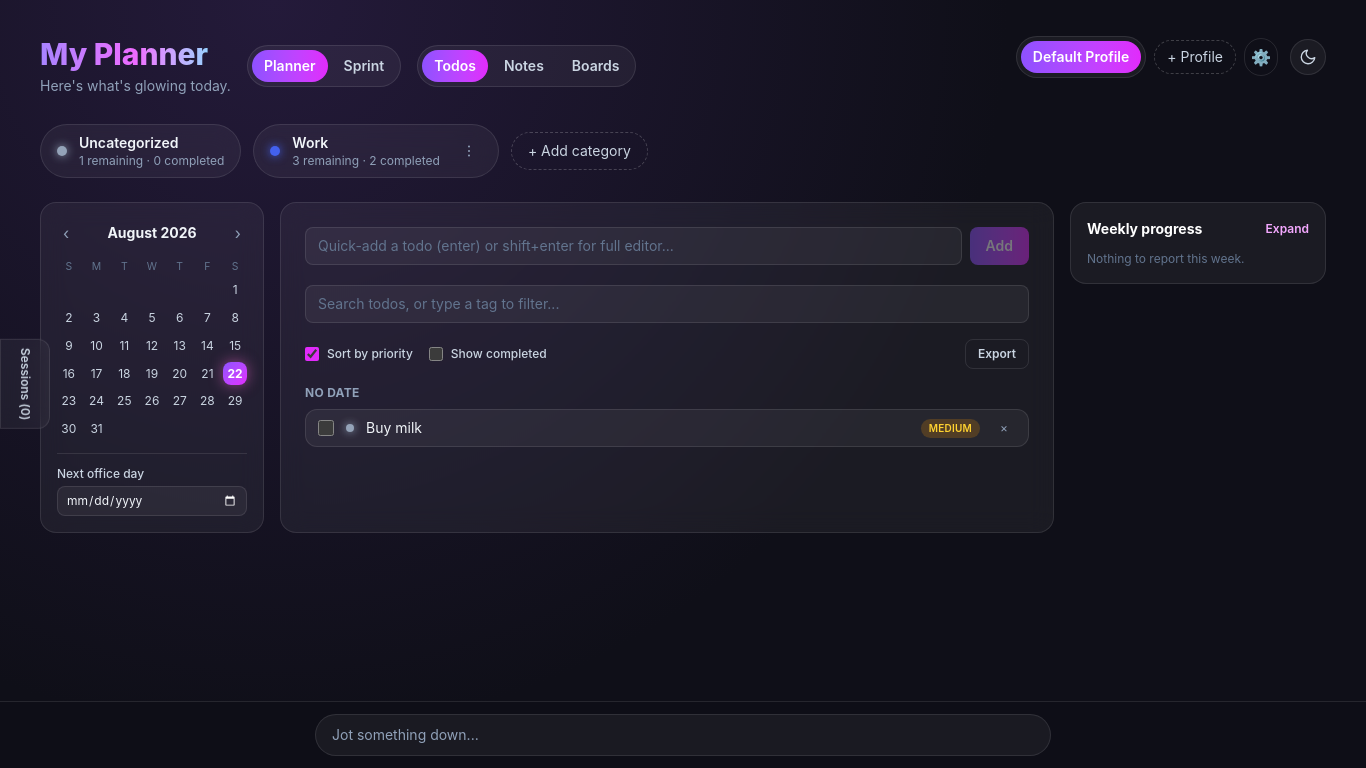
Test case: App › Todos › toggles a todo complete and it drops out of the open agenda
Expected: the text "Buy milk" is shown, [366,419,422,436]
Click the checkbox named "Complete Buy milk" at (326,428), box [318,420,334,436]
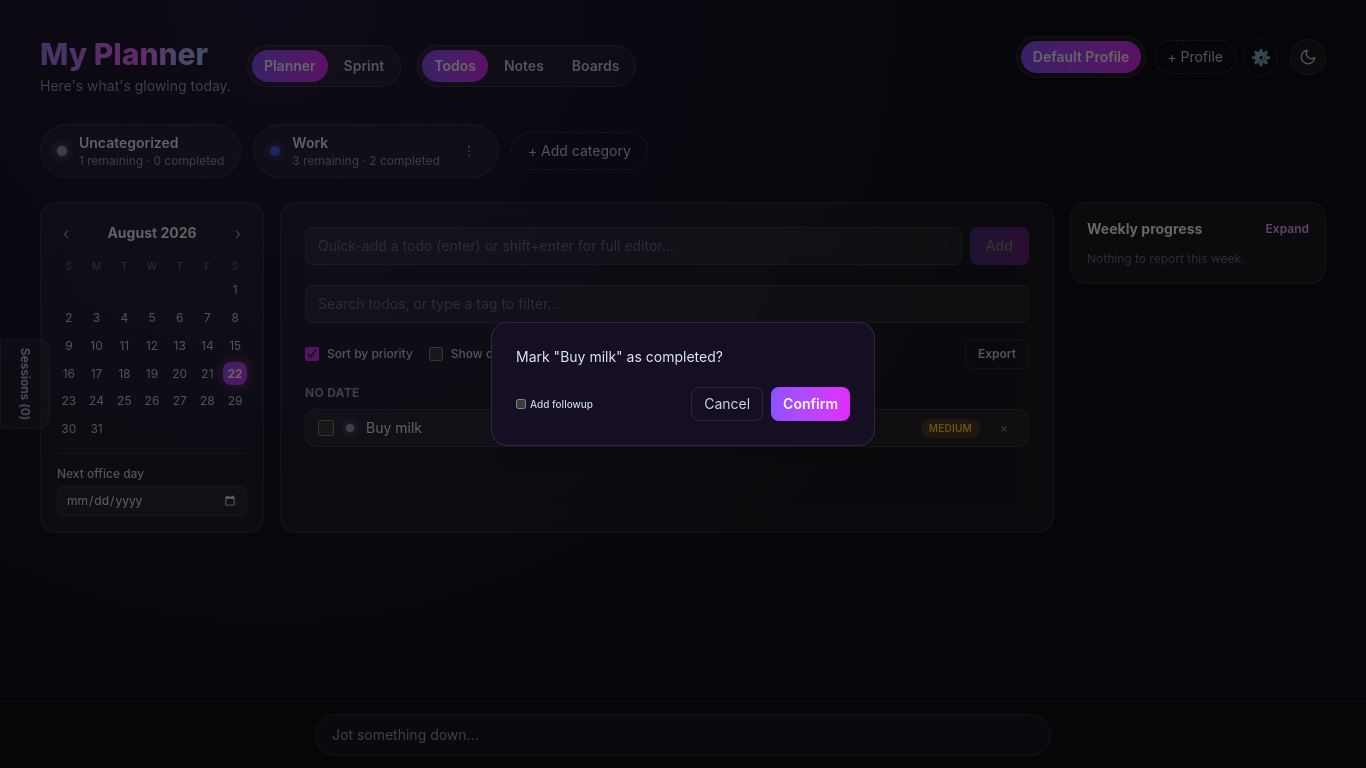
Click the button "Confirm" at (811,404), box [771,387,850,421]
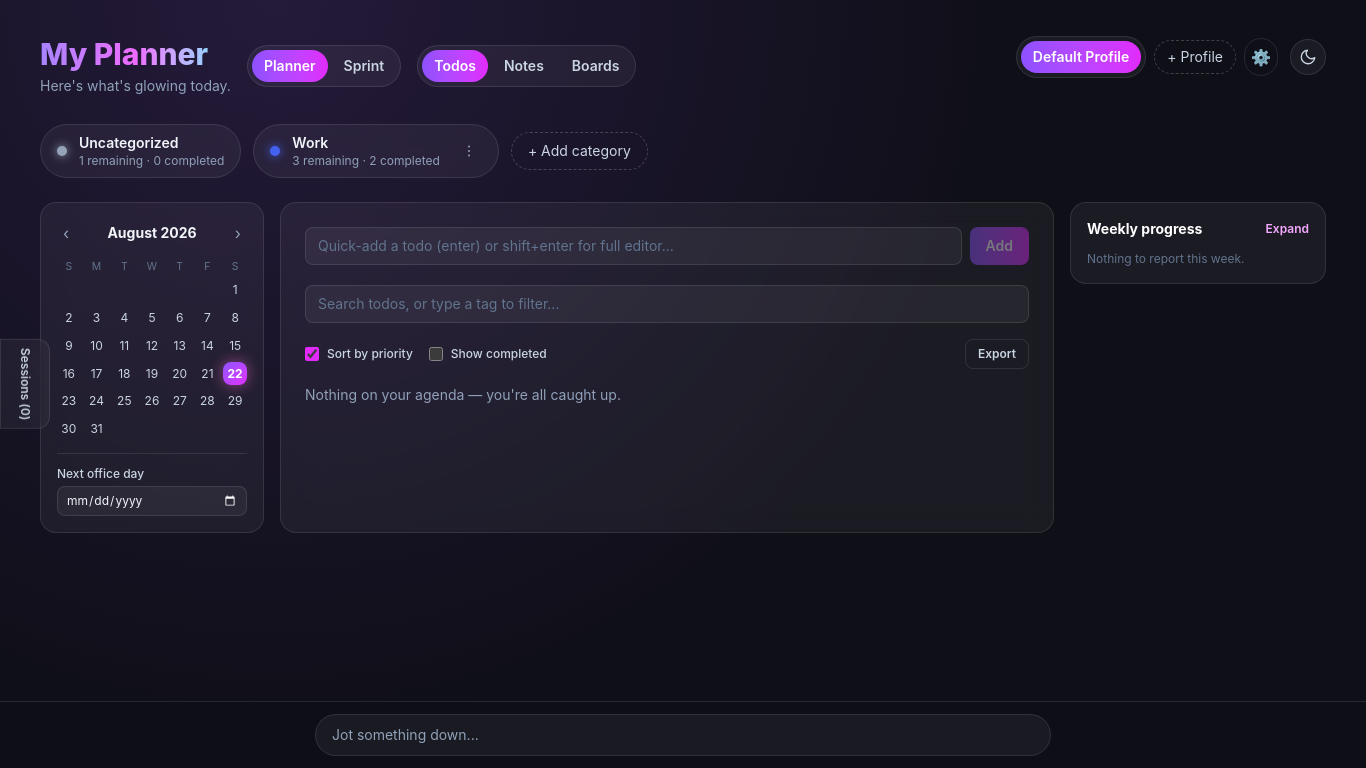
Expected: the button "Buy milk" is gone
